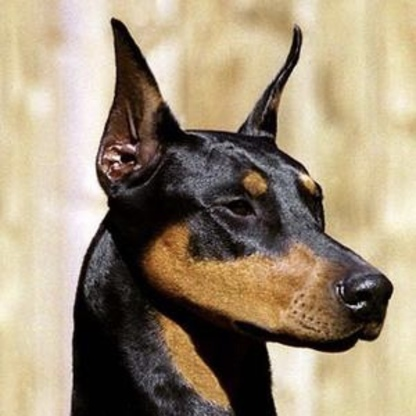doberman: (61, 15, 394, 416)
